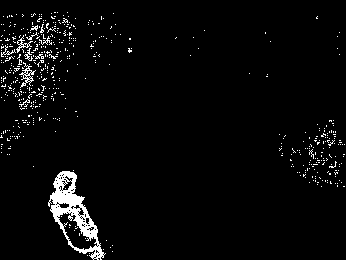person: (46, 169, 113, 260)
